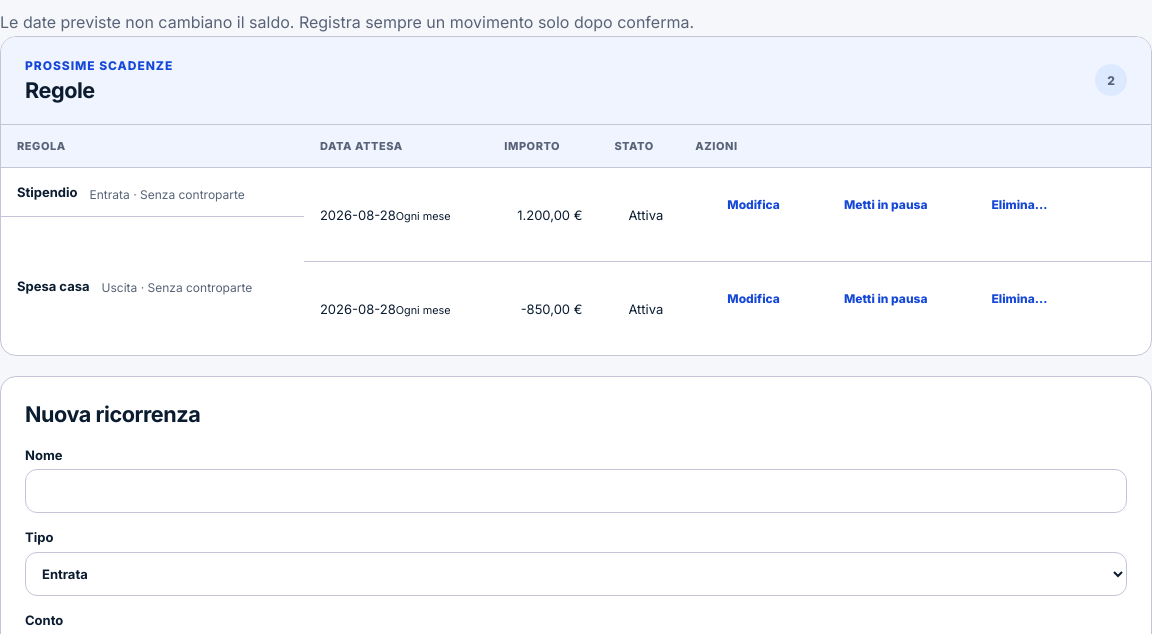
Test: RecurringPage › remounts the complete form when switching between rules and a new rule
Click the button "Modifica" in the row of "Stipendio".
click(754, 205)  # box [719,183,788,227]
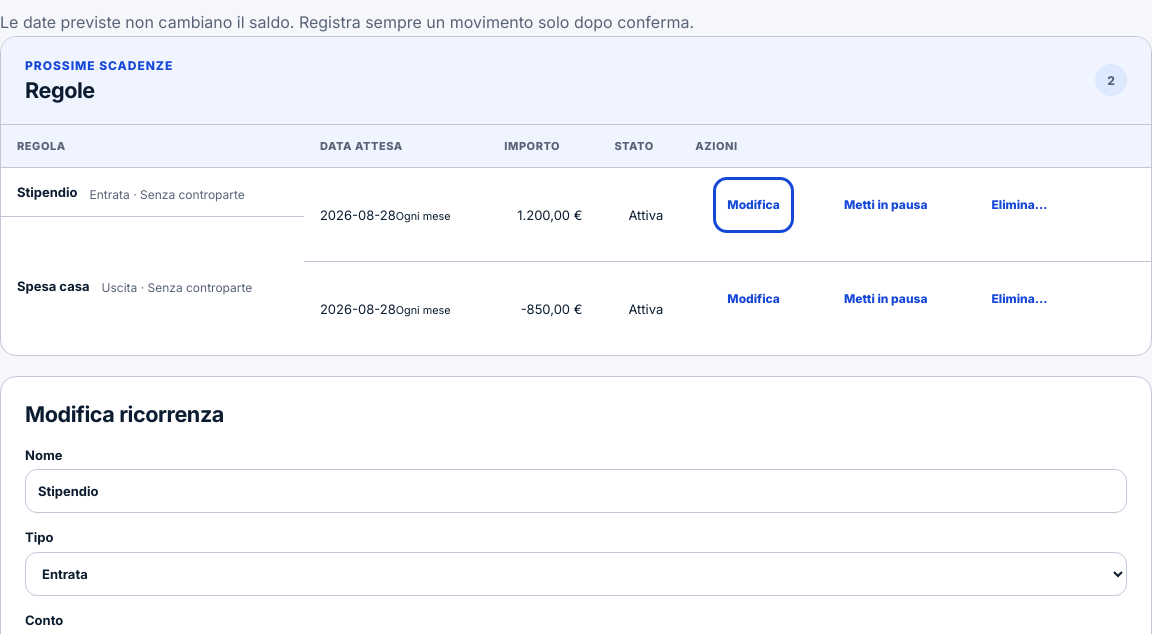
Expected: the dropdown labelled "Tipo" shows "Entrata", [25,552,1127,596]
Result: the field labelled "Nome" holds "Stipendio" at [25,469,1127,513]
Click the button "Modifica" in the row of "Spesa casa".
click(754, 298)  # box [719,276,788,320]
(page scrolled)
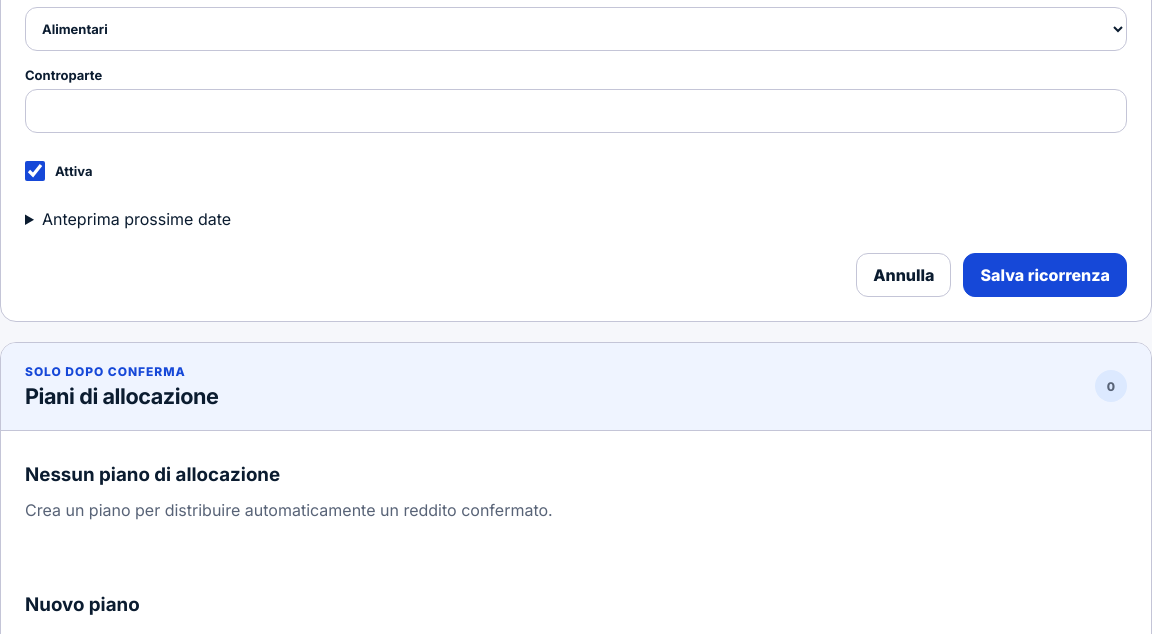
Click the button "Annulla".
click(904, 275)  # box [856,253,952,297]
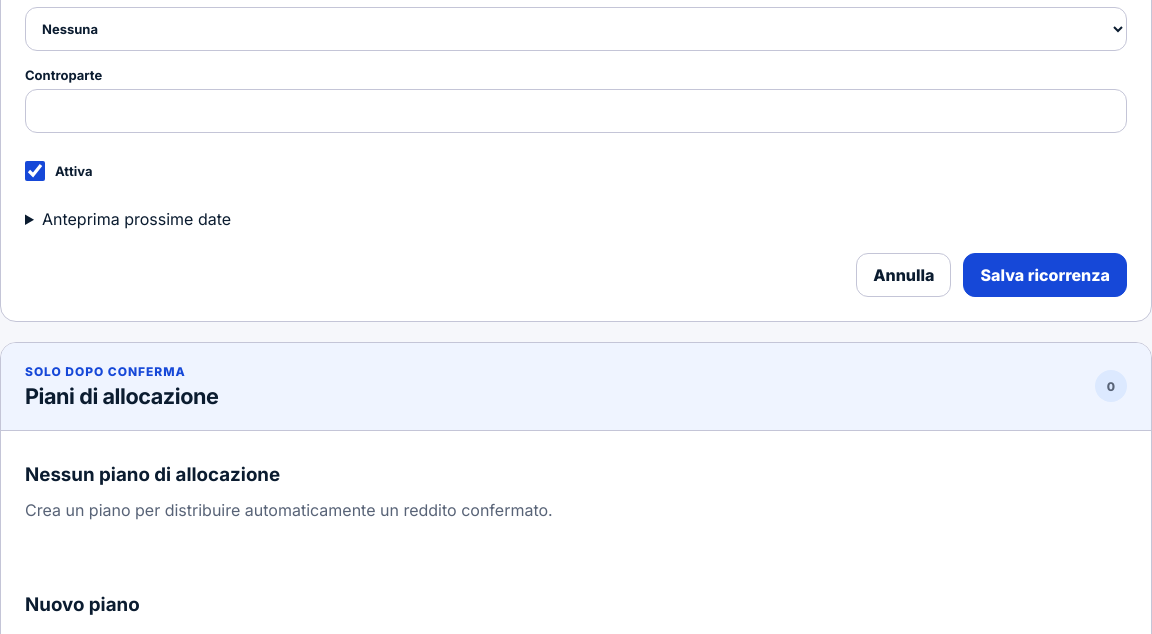
Result: the dropdown labelled "Categoria" shows "Nessuna" at [25,7,1127,51]
